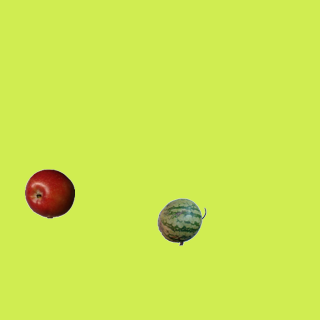Apple Braeburn: (24, 168, 74, 218)
Watermelon: (156, 196, 206, 246)
